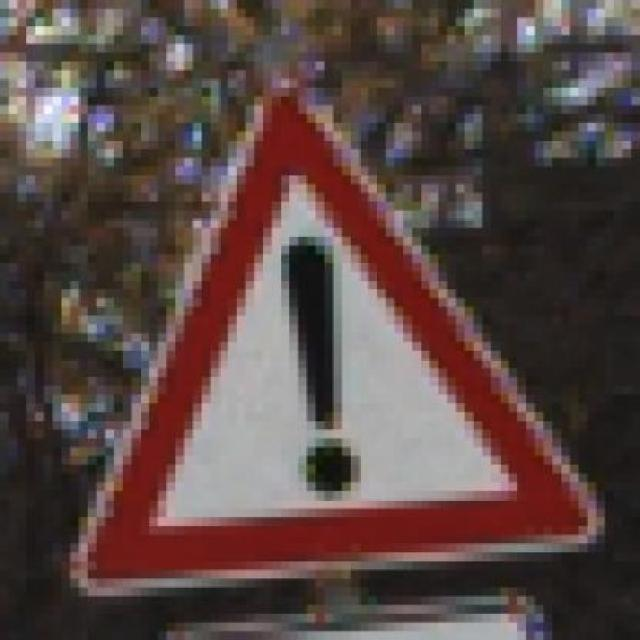Attention Please-: (61, 78, 614, 588)
